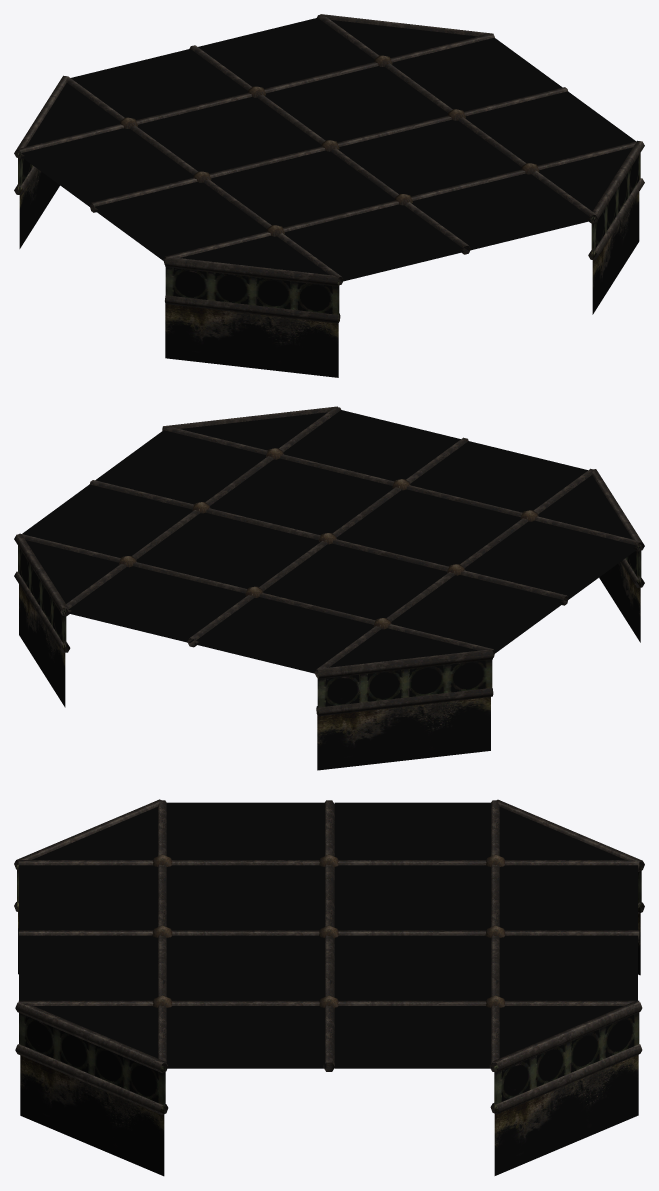
The model's file is catwalk_factory_crosssection_dirty.DAE.
3 renders of one model, top to bottom at view 1: azimuth 30°, elevation 25°; view 2: azimuth 150°, elevation 25°; view 3: azimuth 270°, elevation 25°, orthographic. The views are drawn at different scales.
Parts seen in each view (by area): view 1: Plane019, Object145, Box008; view 2: Plane019, Object145, Box008; view 3: Plane019, Object145, Box008.
Part boxes in pixels (bbox=[...]): Plane019: bbox=[18, 18, 640, 318]; Object145: bbox=[14, 14, 644, 323]; Box008: bbox=[19, 169, 639, 377]; Plane019: bbox=[18, 410, 641, 711]; Object145: bbox=[14, 406, 644, 716]; Box008: bbox=[19, 562, 640, 770]; Plane019: bbox=[17, 802, 641, 1109]; Object145: bbox=[14, 799, 644, 1114]; Box008: bbox=[18, 907, 640, 1176].
Size of the model in its own units: 3.17 by 0.6666 by 3.18.
